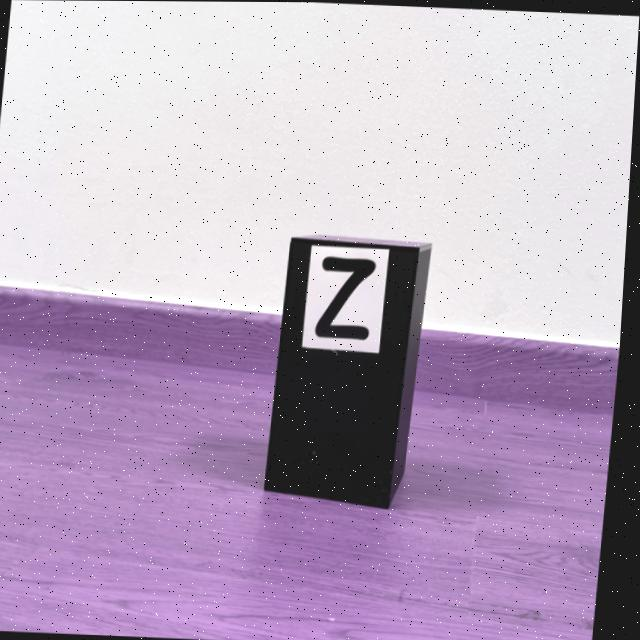Z: (319, 256, 379, 339)
